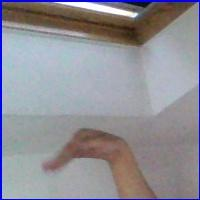del: (40, 128, 135, 185)
